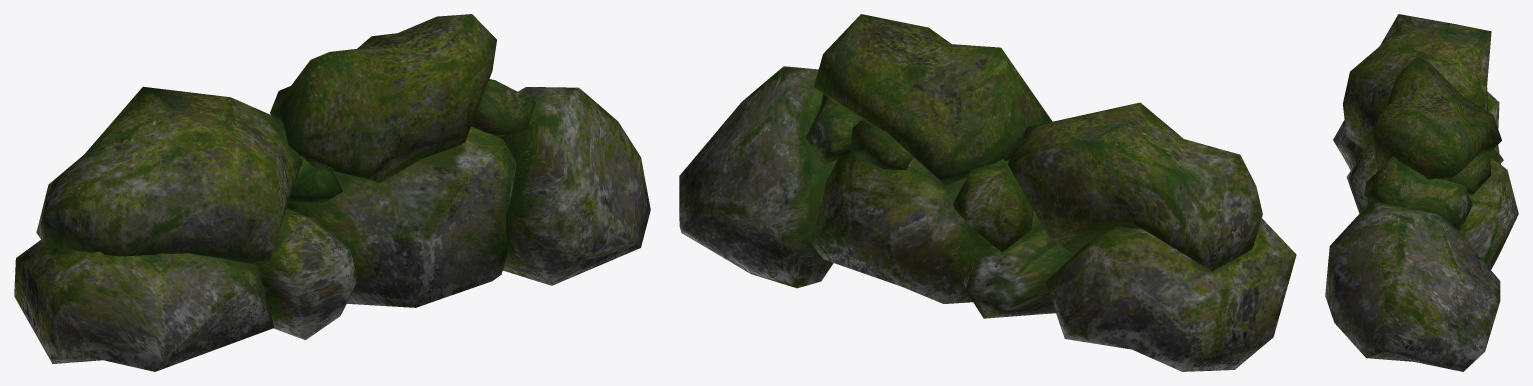
The picture shows the model from 3 angles, left to right: view 1: azimuth 30°, elevation 25°; view 2: azimuth 150°, elevation 25°; view 3: azimuth 270°, elevation 25°; orthographic projection. The views are drawn at different scales.
Visible parts, largest first — view 1: 8_lp, 4_lp, 9_lp, 5_lp, 1_lp, 6_lp, 2_lp, 7_lp; view 2: 8_lp, 9_lp, 4_lp, 1_lp, 5_lp, 6_lp, 7_lp, 2_lp, 3_lp; view 3: 1_lp, 4_lp, 8_lp, 2_lp, 5_lp, 6_lp, 3_lp, 9_lp.
Part boxes in pixels (<box>): 8_lp: <box>36,86,302,265</box>; 4_lp: <box>270,14,496,182</box>; 9_lp: <box>14,240,274,371</box>; 5_lp: <box>286,126,516,307</box>; 1_lp: <box>497,87,650,285</box>; 6_lp: <box>257,208,358,340</box>; 2_lp: <box>471,79,535,136</box>; 7_lp: <box>288,154,342,203</box>; 8_lp: <box>1007,102,1262,271</box>; 9_lp: <box>1045,218,1296,371</box>; 4_lp: <box>814,14,1052,185</box>; 1_lp: <box>679,66,837,288</box>; 5_lp: <box>812,151,986,303</box>; 6_lp: <box>963,210,1074,318</box>; 7_lp: <box>953,159,1033,252</box>; 2_lp: <box>805,94,861,165</box>; 3_lp: <box>850,120,913,170</box>; 1_lp: <box>1325,200,1500,371</box>; 4_lp: <box>1371,57,1501,180</box>; 8_lp: <box>1343,14,1491,149</box>; 2_lp: <box>1364,156,1472,230</box>; 5_lp: <box>1368,157,1518,269</box>; 6_lp: <box>1346,140,1376,213</box>; 3_lp: <box>1449,151,1490,194</box>; 9_lp: <box>1333,91,1500,170</box>.
Size of the model in its own units: 449 by 195 by 156.
1 material, 1 textured.
